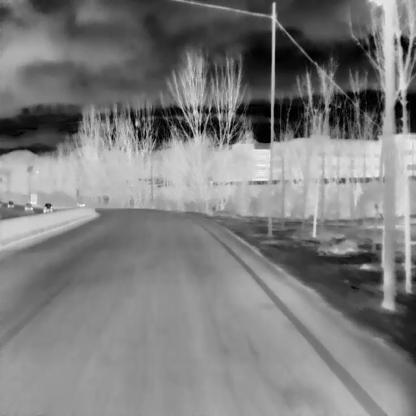car: (42, 202, 52, 212), (23, 203, 33, 211), (6, 200, 13, 206)
